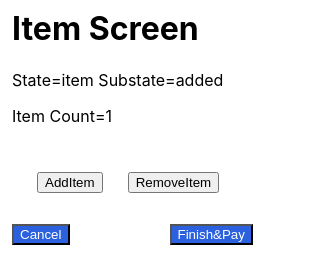
Test - Test buttons › Test tender screen buttons
The width and height of the screenshot is (332, 262).
Step 1. Click the button with id "totals" → click(212, 235), box [170,224,253,245]
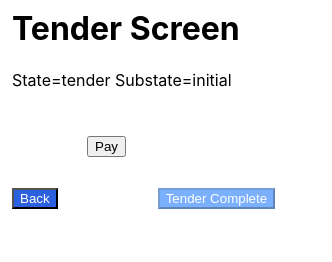
Expected: the button "Pay" is shown, [87,136,126,157]
Expected: the button "Tender Complete" is shown, [158,188,275,209]
